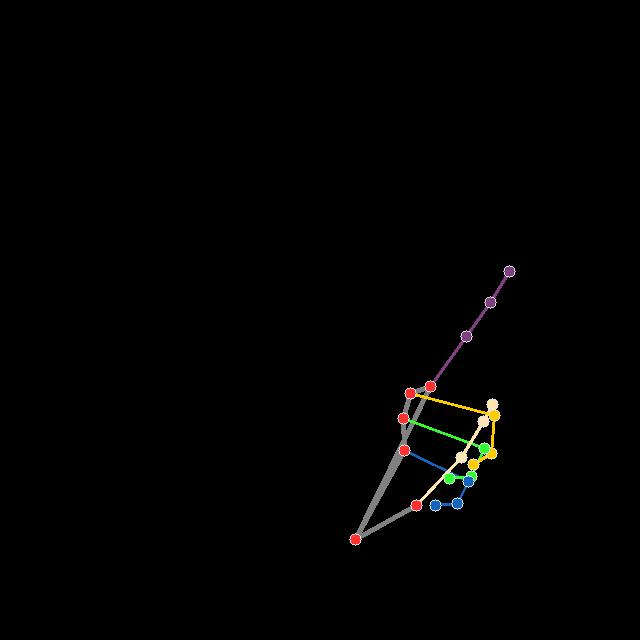gun: (344, 262, 526, 547)
